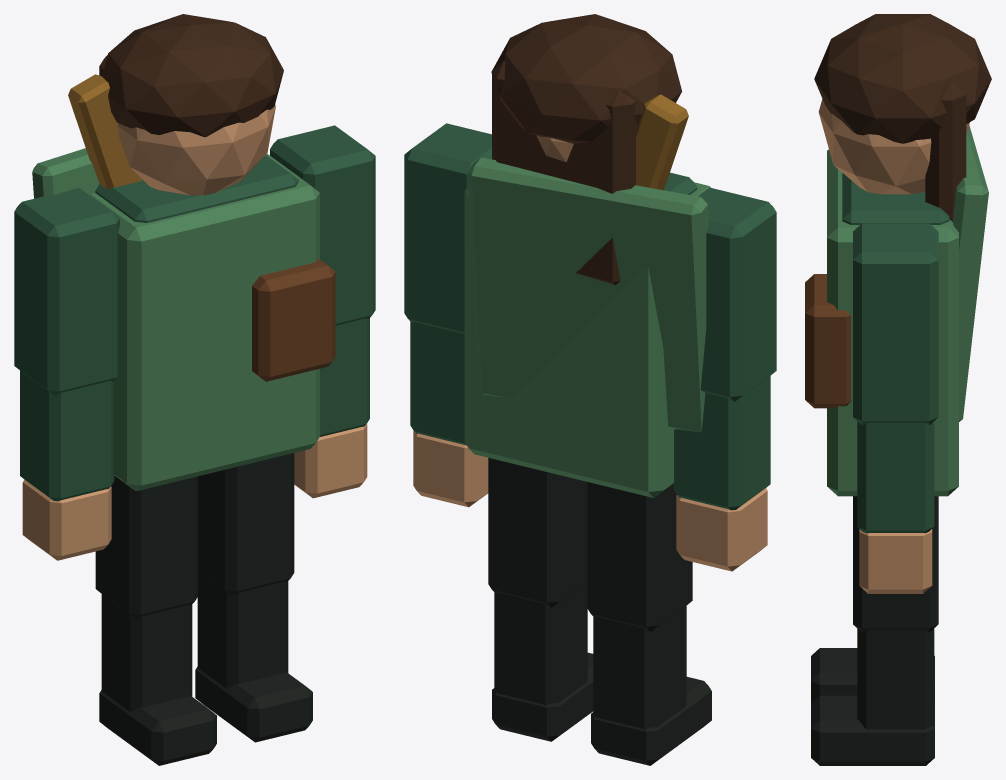
Rendered from IlyraWayfarerGuide.glb.
The picture shows the model from 3 angles, left to right: view 1: azimuth 30°, elevation 25°; view 2: azimuth 150°, elevation 25°; view 3: azimuth 270°, elevation 25°; orthographic projection. The views are drawn at different scales.
Parts seen in each view (by area): view 1: UpperTorso_Tunic, LeftUpperArm, Head_HairCap, LeftUpperLeg, RightUpperLeg, RightUpperArm, LeftLowerArm, UpperTorso_Satchel, LeftLowerLeg, RightLowerLeg, Head, LeftFoot (+7 smaller); view 2: UpperTorso_Cape, UpperTorso_Tunic, Head_HairCap, LeftUpperArm, RightUpperLeg, LeftUpperLeg, RightUpperArm, LeftLowerArm, LeftLowerLeg, RightLowerLeg, Head_HairBack, RightLowerArm (+5 smaller); view 3: RightUpperArm, Head_HairCap, UpperTorso_Tunic, RightLowerArm, RightLowerLeg, RightFoot, Head, UpperTorso_Satchel, UpperTorso_Cape, RightHand, RightUpperLeg, Head_HairBack (+2 smaller).
Boxes of the visible parts, x1=… form: UpperTorso_Tunic: x1=90, y1=153, x2=319, y2=491; LeftUpperArm: x1=14, y1=188, x2=119, y2=395; Head_HairCap: x1=102, y1=14, x2=283, y2=137; LeftUpperLeg: x1=95, y1=475, x2=197, y2=619; RightUpperLeg: x1=198, y1=453, x2=294, y2=595; RightUpperArm: x1=270, y1=125, x2=375, y2=325; LeftLowerArm: x1=20, y1=370, x2=114, y2=501; UpperTorso_Satchel: x1=252, y1=258, x2=335, y2=381; LeftLowerLeg: x1=101, y1=594, x2=192, y2=712; RightLowerLeg: x1=197, y1=570, x2=288, y2=688; Head: x1=118, y1=104, x2=275, y2=195; LeftFoot: x1=99, y1=690, x2=216, y2=765; UpperTorso_Cape: x1=468, y1=157, x2=708, y2=432; UpperTorso_Tunic: x1=464, y1=182, x2=710, y2=497; Head_HairCap: x1=491, y1=14, x2=681, y2=143; LeftUpperArm: x1=698, y1=187, x2=776, y2=401; RightUpperLeg: x1=488, y1=458, x2=587, y2=607; LeftUpperLeg: x1=587, y1=482, x2=692, y2=631; RightUpperArm: x1=404, y1=123, x2=491, y2=333; LeftLowerArm: x1=673, y1=375, x2=770, y2=510; LeftLowerLeg: x1=593, y1=605, x2=686, y2=729; RightLowerLeg: x1=494, y1=582, x2=587, y2=705; Head_HairBack: x1=492, y1=60, x2=637, y2=284; RightLowerArm: x1=410, y1=322, x2=466, y2=445; RightUpperArm: x1=853, y1=223, x2=938, y2=424; Head_HairCap: x1=814, y1=14, x2=991, y2=143; UpperTorso_Tunic: x1=827, y1=149, x2=958, y2=496; RightLowerArm: x1=857, y1=421, x2=934, y2=533; RightLowerLeg: x1=857, y1=628, x2=934, y2=729; RightFoot: x1=811, y1=695, x2=934, y2=765; Head: x1=818, y1=99, x2=969, y2=194; UpperTorso_Satchel: x1=805, y1=274, x2=850, y2=408; UpperTorso_Cape: x1=953, y1=125, x2=988, y2=421; RightHand: x1=859, y1=529, x2=932, y2=593; RightUpperLeg: x1=853, y1=496, x2=938, y2=632; Head_HairBack: x1=925, y1=81, x2=966, y2=221.
Bounding box in the file's own units: 4.24 × 8.55 × 2.05.
Materials: 1 (1 with a texture image).
